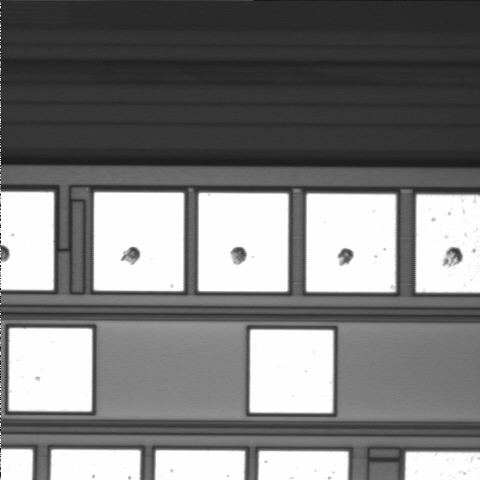pad: (94, 192, 184, 291), (198, 193, 288, 292), (306, 194, 396, 292), (9, 328, 92, 411), (250, 330, 333, 413)
